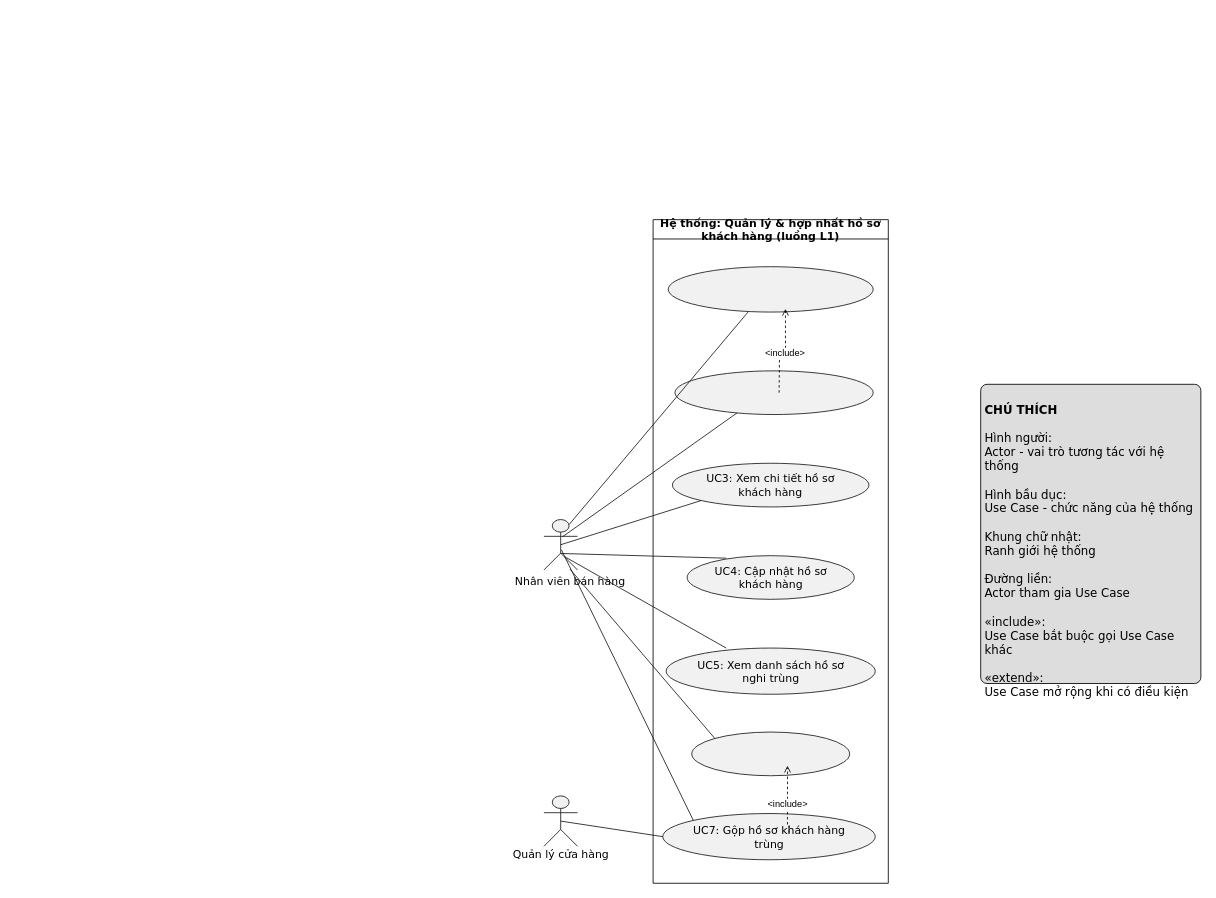
Image size: 1216x898. Some labels were removed from this diagram. The centre of each missing label's shape, as x and y in pixels:
"UC1: Tra cứu khách hàng theo số điện thoại" goes at [770,289].
"UC2: Tạo hồ sơ khách hàng mới" goes at [773,392].
"UC6: So sánh hồ sơ nghi trùng" goes at [770,753].
